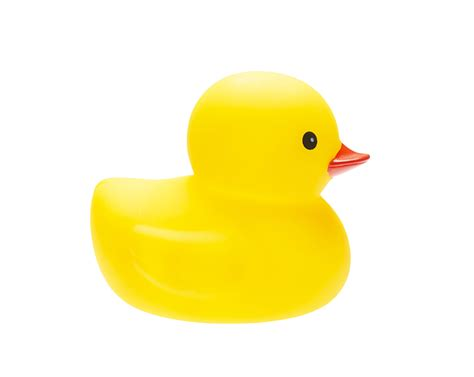???: (88, 70, 371, 324)
